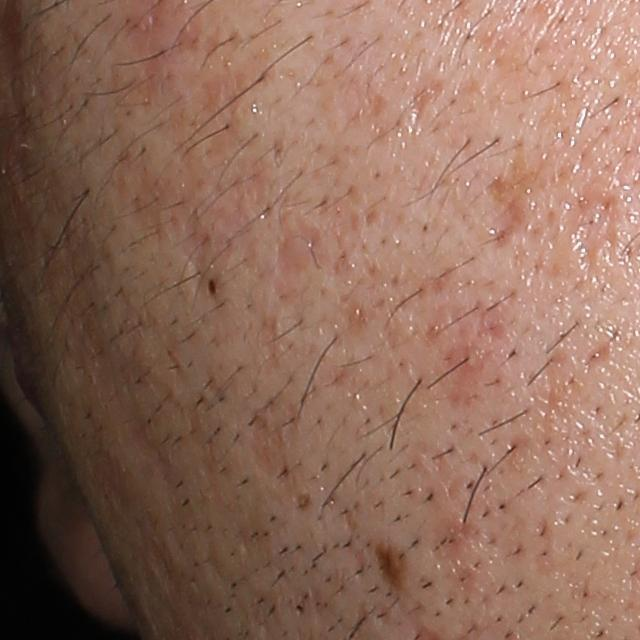atrophic_scar: (243, 406, 302, 495), (268, 216, 319, 305), (565, 190, 621, 270), (477, 172, 529, 249), (438, 336, 487, 410), (178, 205, 214, 297), (407, 76, 444, 132), (431, 519, 480, 559), (501, 432, 531, 473)
nevus: (375, 542, 409, 592), (206, 276, 219, 301)
